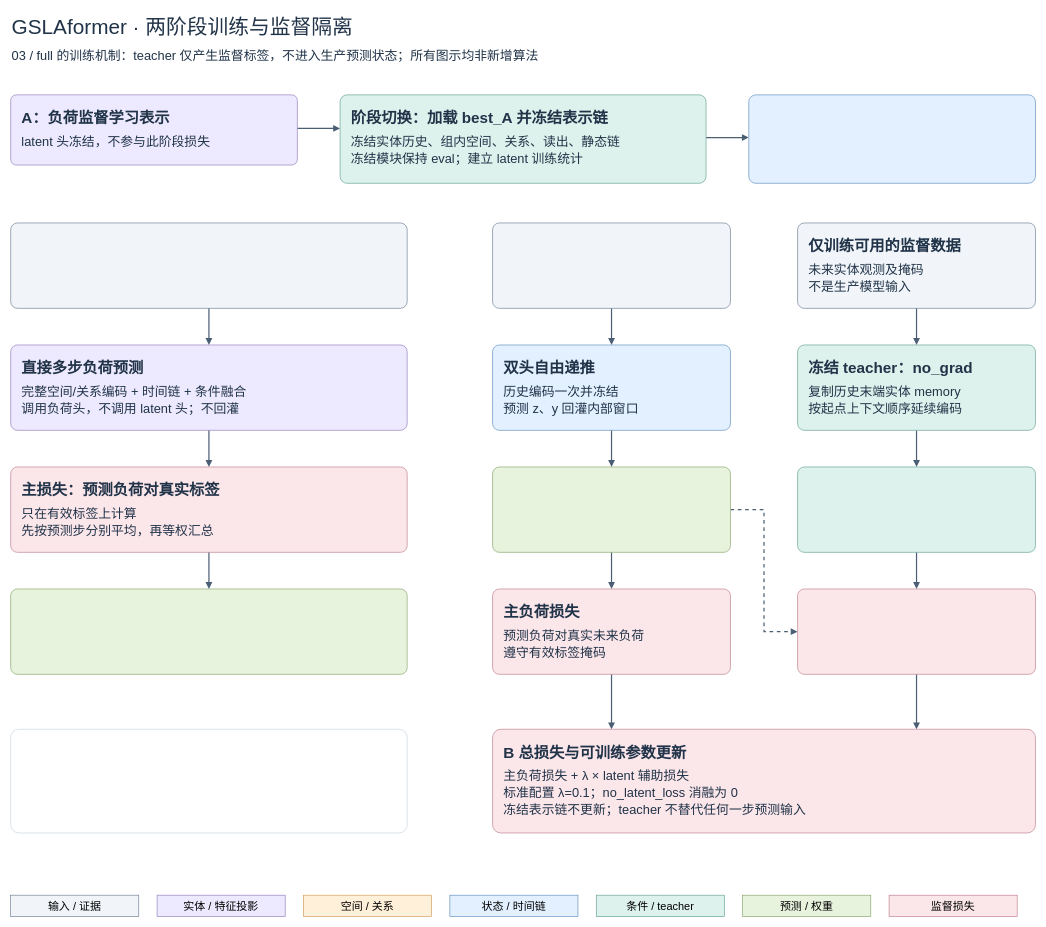
The diagram is 1046 pixels wide and 927 high, and some of its shapes have lost their labels. Each missing label, with the centre of its shape:
"B 阶段课程与冻结边界 监督递推长度：1 → min(3,H) → H 未来条件仍编码完整 H；不截断回灌梯度 B 的主预测路径不读取未来真实负荷或实体值" goes at (x=208, y=781).
"B：自由递推与辅助监督 时间链、未来路径、融合层、两头继续训练" goes at (x=891, y=138).
"latent 辅助损失 预测 latent 对 teacher 标签 按质量及训练方差加权" goes at (x=916, y=631).
"历史与起点已知未来条件 真实未来负荷仅作为损失标签 不输入预测分支" goes at (x=208, y=265).
"生产预测分支输入 真实历史 + 起点已知条件 不接收未来真值" goes at (x=611, y=265).
"规范 latent 标签与质量 q 标签不写回生产窗口 质量及维度权重仅用于损失" goes at (x=916, y=509).
"预测负荷与预测 latent 主损失读取预测负荷 辅助损失读取预测 latent" goes at (x=611, y=509).
"验证集选择 best_A B 从选中的 A 权重开始，而非最后一次更新 A 阶段不以 latent 辅助目标预训练 latent 头" goes at (x=208, y=631).
